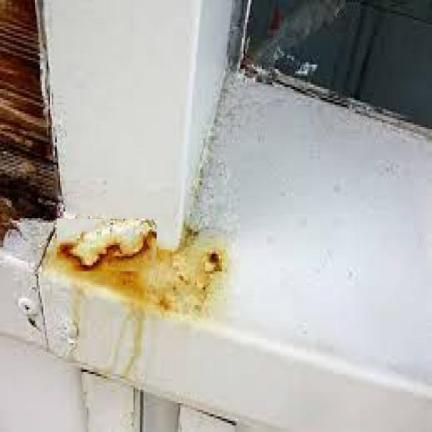besi_tidak_karat: (196, 78, 431, 383), (44, 0, 230, 247), (132, 318, 431, 431), (0, 250, 45, 348)
karat: (43, 221, 227, 319)
